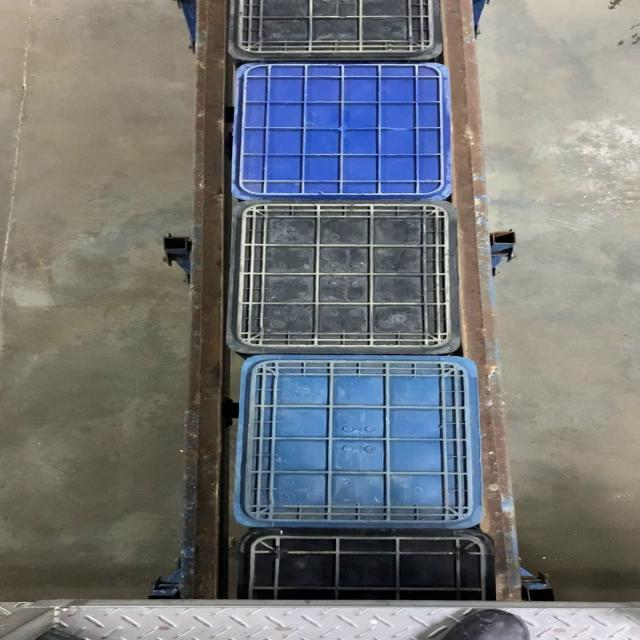Box: (229, 357, 482, 531), (226, 200, 468, 356), (226, 60, 458, 198)
